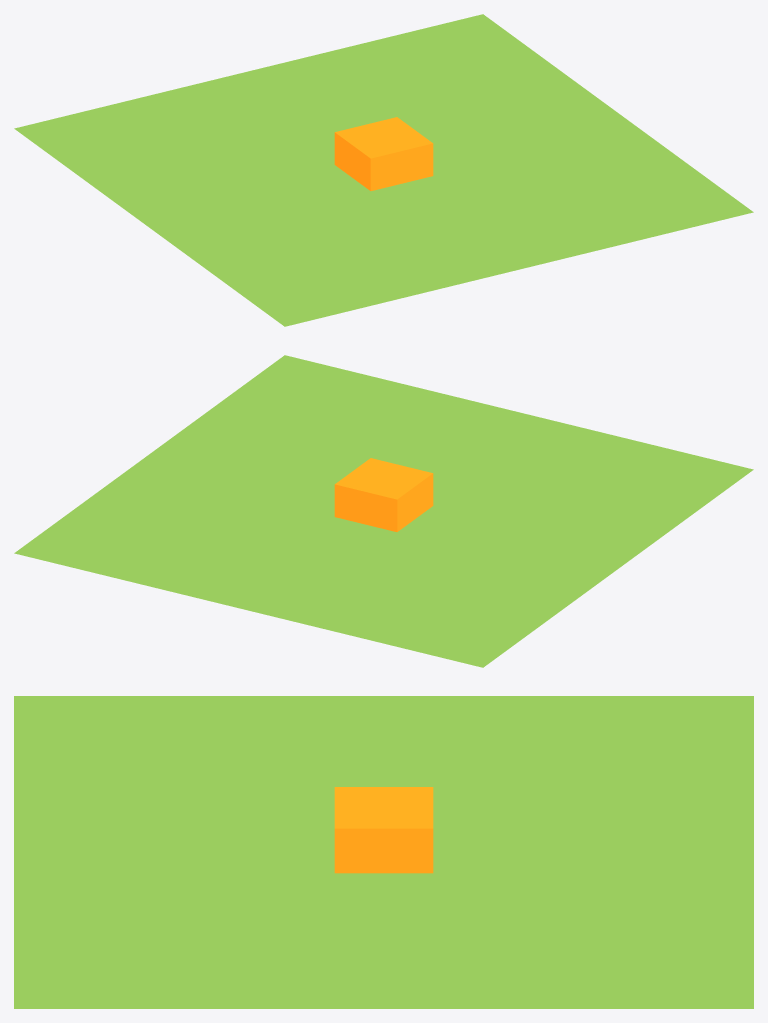
File: emtest.gltf
3 views of the same model, one above another, from view 1: azimuth 30°, elevation 25°; view 2: azimuth 150°, elevation 25°; view 3: azimuth 270°, elevation 25° (orthographic). The views are drawn at different scales.
Visible parts, largest first — view 1: Plane, Cube; view 2: Plane, Cube; view 3: Plane, Cube.
Boxes of the visible parts, box(x1,y1,x2,y2) form: Plane: box(14, 14, 753, 326); Cube: box(334, 117, 433, 190); Plane: box(14, 355, 753, 667); Cube: box(334, 458, 433, 531); Plane: box(14, 696, 753, 1008); Cube: box(334, 787, 433, 873).
Size of the model in its own units: 9.15 by 1.22 by 9.15.
